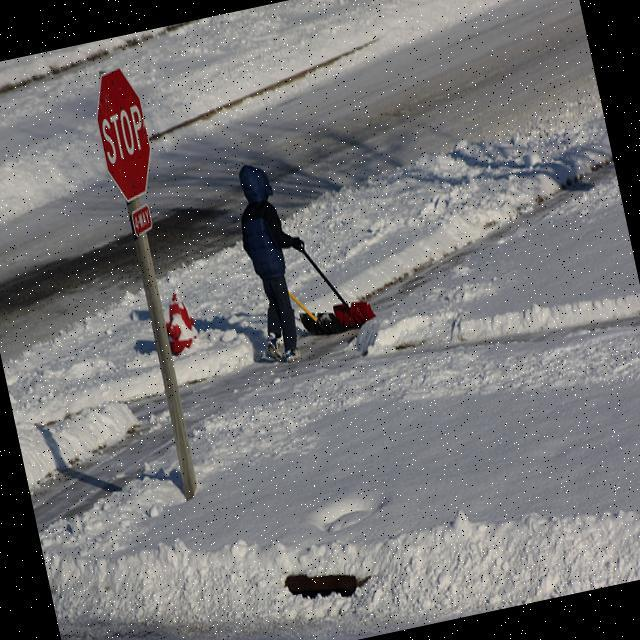fire_hydrant: (158, 288, 202, 356)
